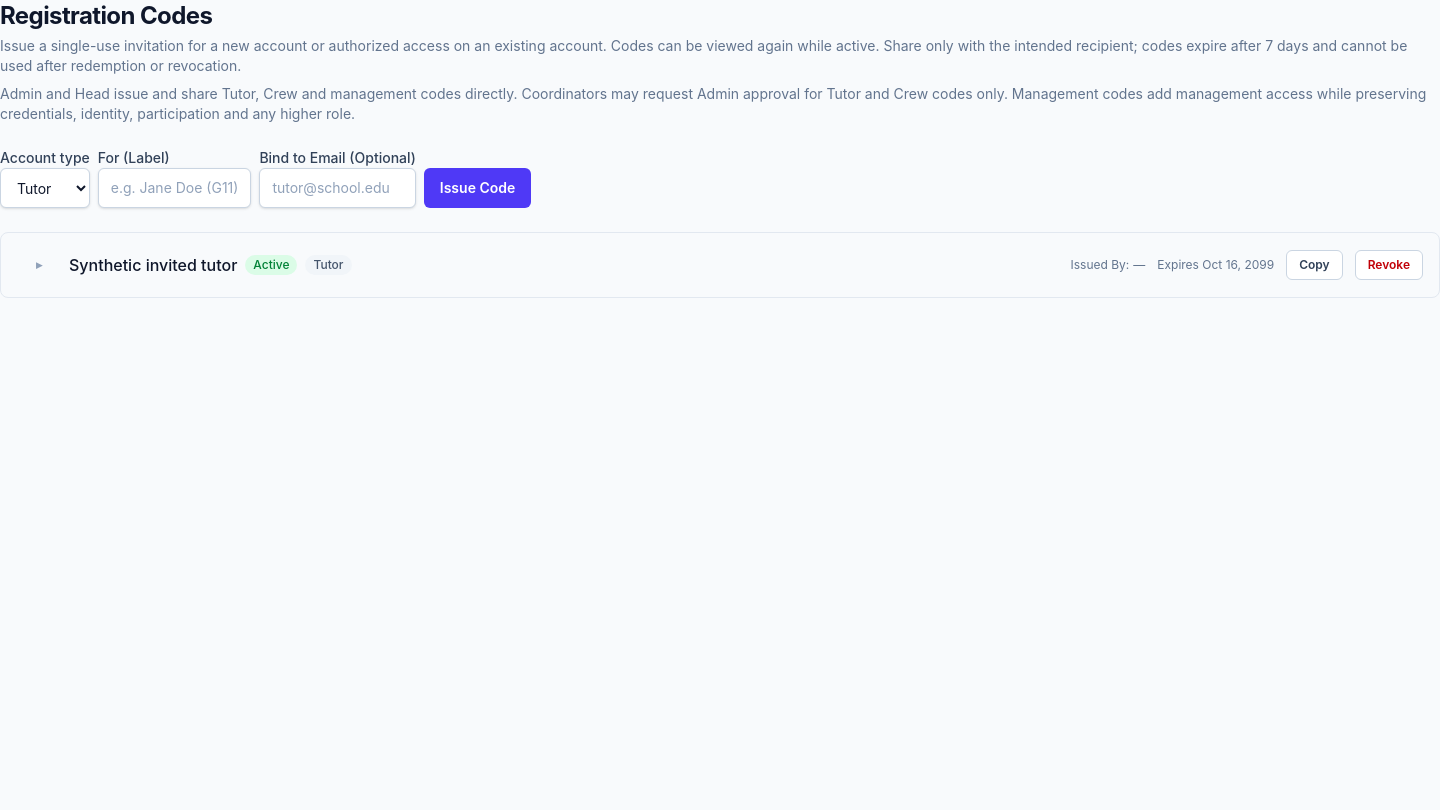
Test: registration code export availability › identifies an unlabeled invitation by its tutor or stable id (Synthetic invited tutor)
The image size is (1440, 810).
Click the button "Revoke": {"x": 1389, "y": 265} x1=1355 y1=250 x2=1423 y2=280
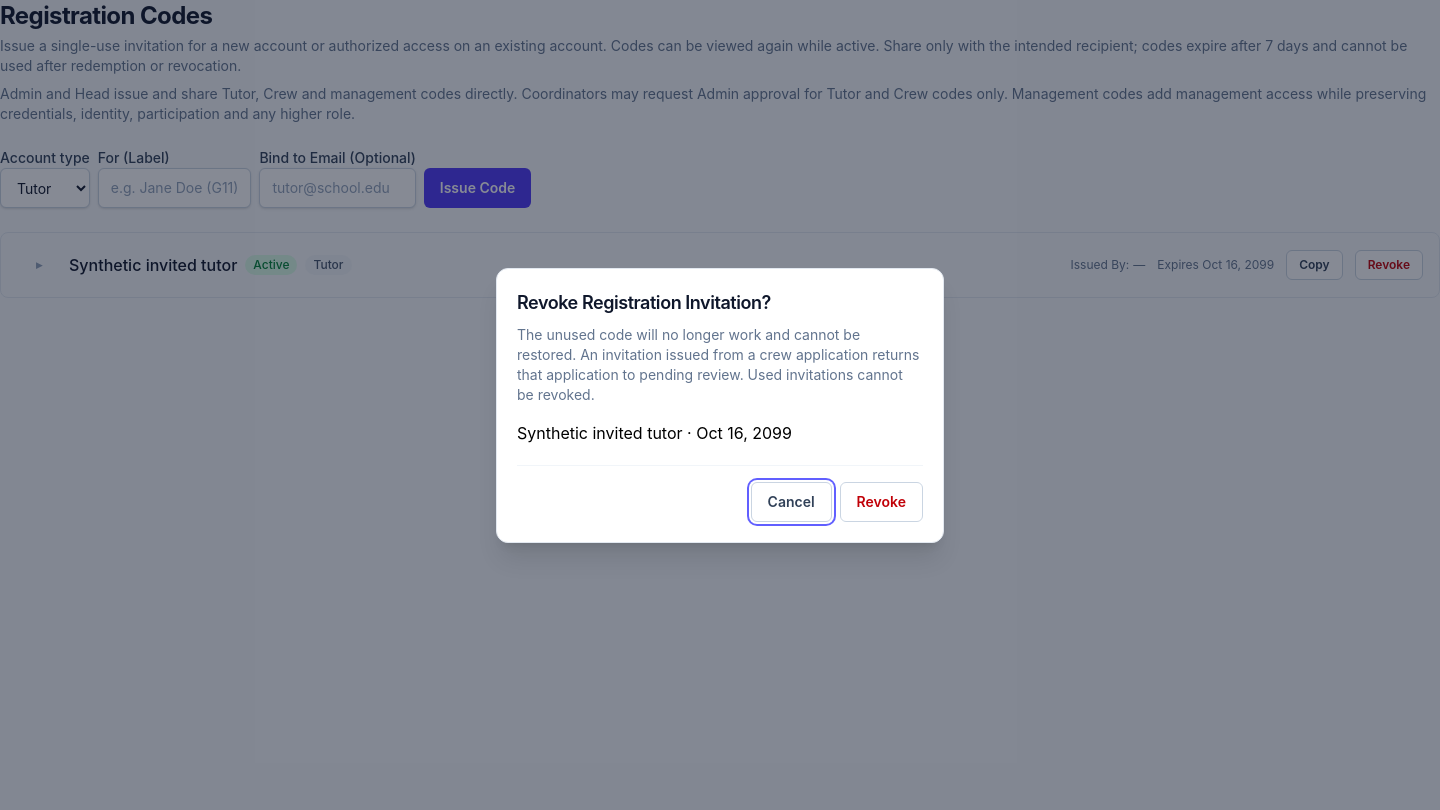
Expected: the dialog shows "Synthetic invited tutor", x1=517 y1=422 x2=682 y2=442
